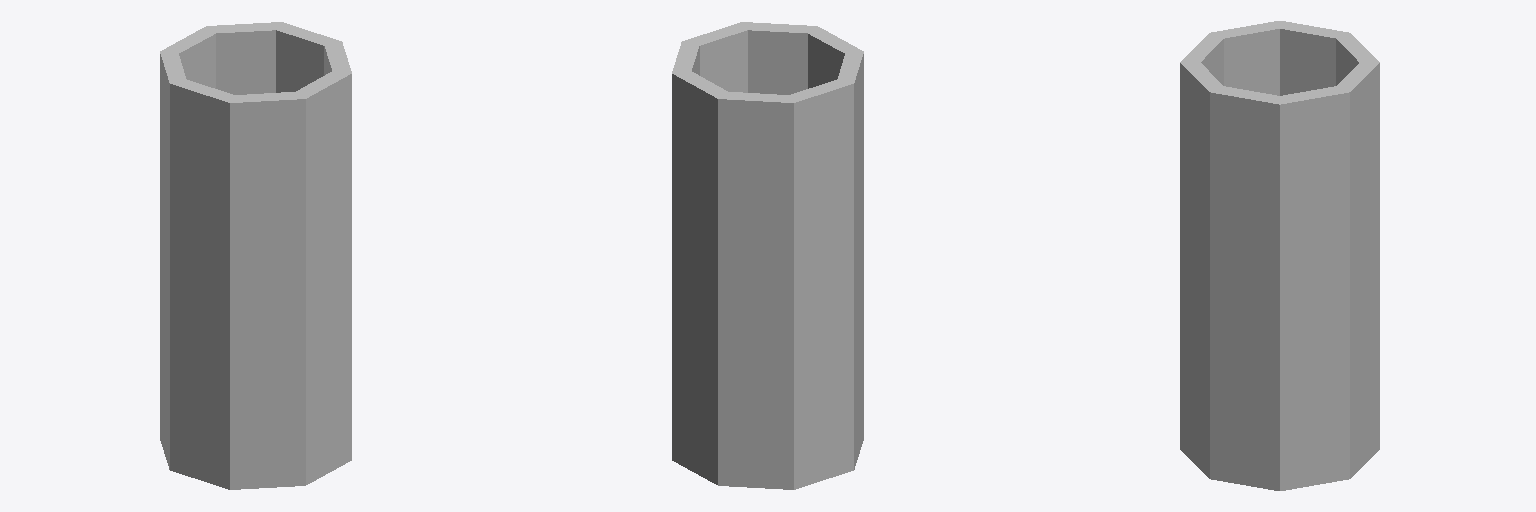
Rendered from Walls.obj.
3 views of the same model, side by side, from view 1: azimuth 30°, elevation 25°; view 2: azimuth 150°, elevation 25°; view 3: azimuth 270°, elevation 25° (orthographic).
Parts seen in each view (by area): view 1: Circle.001; view 2: Circle.001; view 3: Circle.001.
Part boxes in pixels (bbox=[...]): Circle.001: bbox=[160, 22, 351, 489]; Circle.001: bbox=[672, 22, 863, 489]; Circle.001: bbox=[1180, 21, 1379, 490].
Bounding box in the file's own units: 2 × 4.29 × 2.